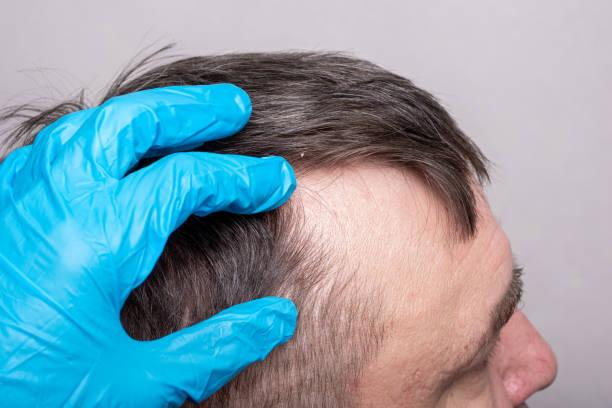dandruff: (294, 148, 309, 161)
dry hair: (343, 101, 416, 129), (163, 274, 265, 294), (266, 96, 318, 118), (464, 201, 474, 234)
low hair density: (177, 304, 194, 324)
